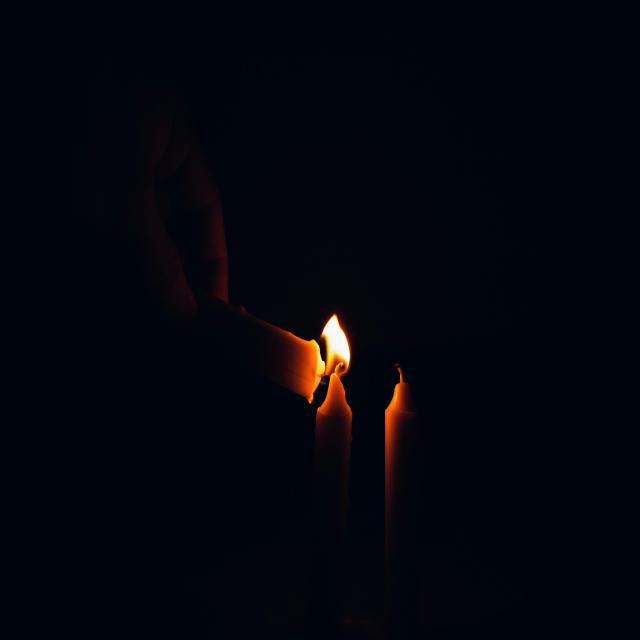fire: (321, 315, 350, 374)
